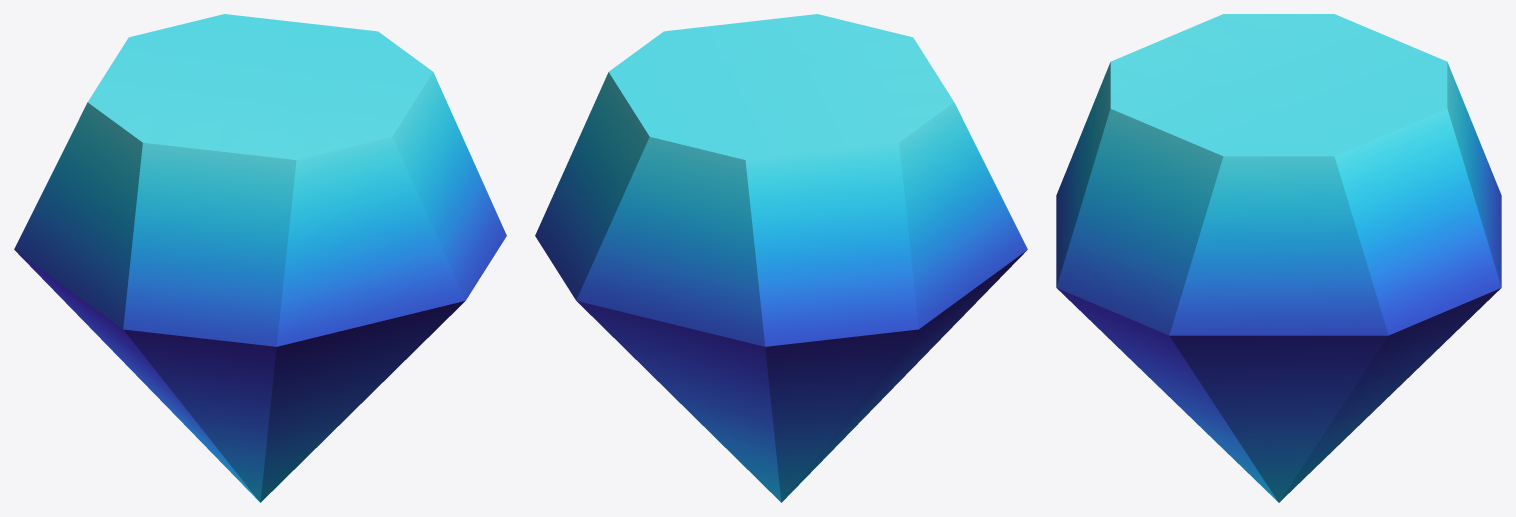
Rendered from Gem_Purple.fbx.
3 views of the same model, side by side, from view 1: azimuth 30°, elevation 25°; view 2: azimuth 150°, elevation 25°; view 3: azimuth 270°, elevation 25° (orthographic).
Visible parts, largest first — view 1: Gem_Purple; view 2: Gem_Purple; view 3: Gem_Purple.
Boxes of the visible parts, <box> form: Gem_Purple: <box>14,14,506,502</box>; Gem_Purple: <box>535,14,1027,502</box>; Gem_Purple: <box>1056,14,1501,502</box>.
Size of the model in its own units: 6.32 by 6.55 by 6.32.
